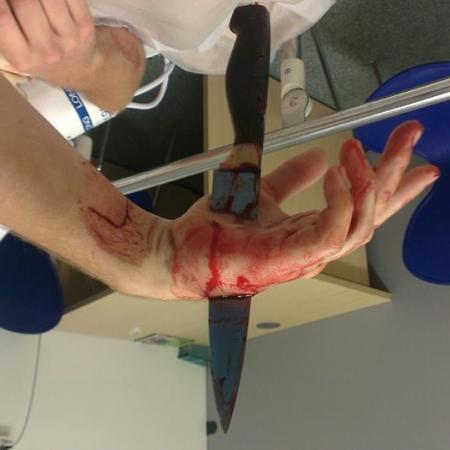long weapon: (202, 158, 300, 440)
